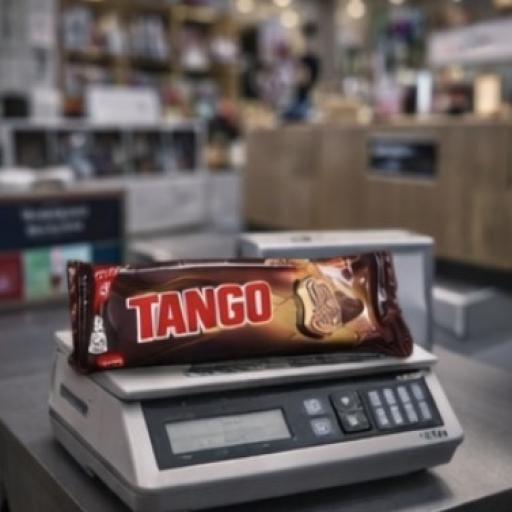tango: (46, 212, 458, 394)
